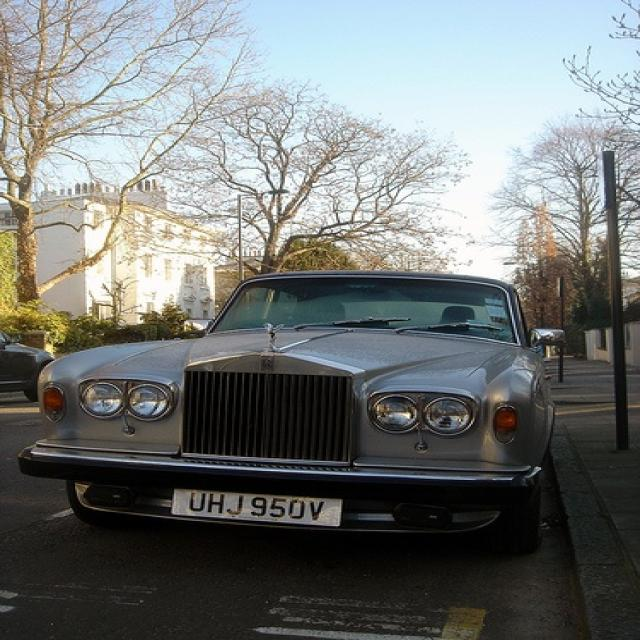car: (17, 269, 565, 553)
